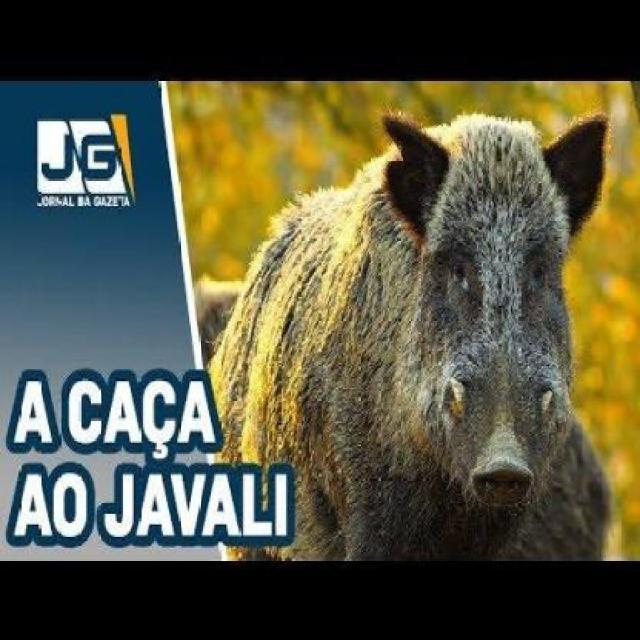wildboar: (206, 113, 619, 639)
